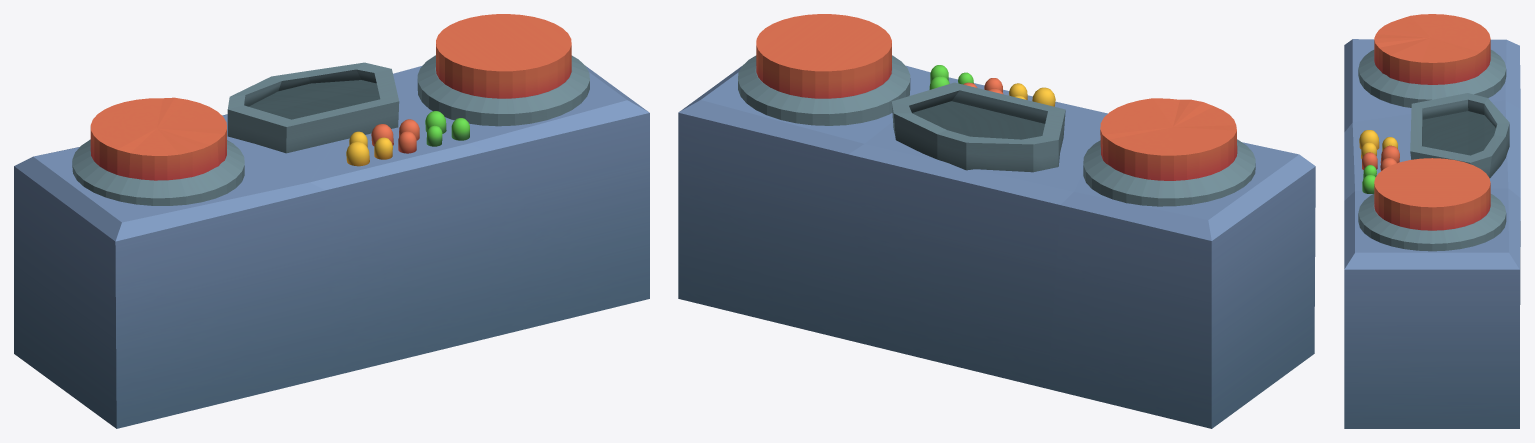
The model's file is itemWarning.fbx.
The picture shows the model from 3 angles, left to right: view 1: azimuth 30°, elevation 25°; view 2: azimuth 150°, elevation 25°; view 3: azimuth 270°, elevation 25°; orthographic projection. The views are drawn at different scales.
Parts seen in each view (by area): view 1: Iteam, Grame, ButtonLeft, ButtonFrameRight, ButtonFrameLeft, ButtonRight, RightLight, LeftLight, MiddleLight; view 2: Iteam, Grame, ButtonLeft, ButtonFrameRight, ButtonFrameLeft, ButtonRight; view 3: Iteam, ButtonLeft, ButtonFrameRight, Grame, ButtonFrameLeft, ButtonRight, RightLight, MiddleLight, LeftLight.
Boxes of the visible parts, left/top/right/bottom form: Iteam: left=14, top=65, right=649, bottom=428; Grame: left=227, top=62, right=399, bottom=153; ButtonLeft: left=436, top=14, right=571, bottom=98; ButtonFrameRight: left=90, top=97, right=226, bottom=180; ButtonFrameLeft: left=417, top=55, right=589, bottom=126; ButtonRight: left=72, top=139, right=244, bottom=205; RightLight: left=346, top=131, right=392, bottom=166; LeftLight: left=425, top=111, right=469, bottom=146; MiddleLight: left=371, top=119, right=419, bottom=153; Iteam: left=678, top=65, right=1315, bottom=428; Grame: left=891, top=82, right=1065, bottom=172; ButtonLeft: left=756, top=14, right=891, bottom=98; ButtonFrameRight: left=1100, top=98, right=1237, bottom=180; ButtonFrameLeft: left=738, top=55, right=910, bottom=125; ButtonRight: left=1083, top=139, right=1255, bottom=206; Iteam: left=1344, top=39, right=1520, bottom=428; ButtonLeft: left=1374, top=158, right=1490, bottom=230; ButtonFrameRight: left=1374, top=14, right=1490, bottom=84; Grame: left=1410, top=93, right=1509, bottom=178; ButtonFrameLeft: left=1358, top=194, right=1506, bottom=251; ButtonRight: left=1358, top=50, right=1506, bottom=107; RightLight: left=1359, top=130, right=1397, bottom=158; MiddleLight: left=1362, top=145, right=1399, bottom=170; LeftLight: left=1362, top=165, right=1376, bottom=193.
Bounding box in the file's own units: 601 × 260 × 201.
